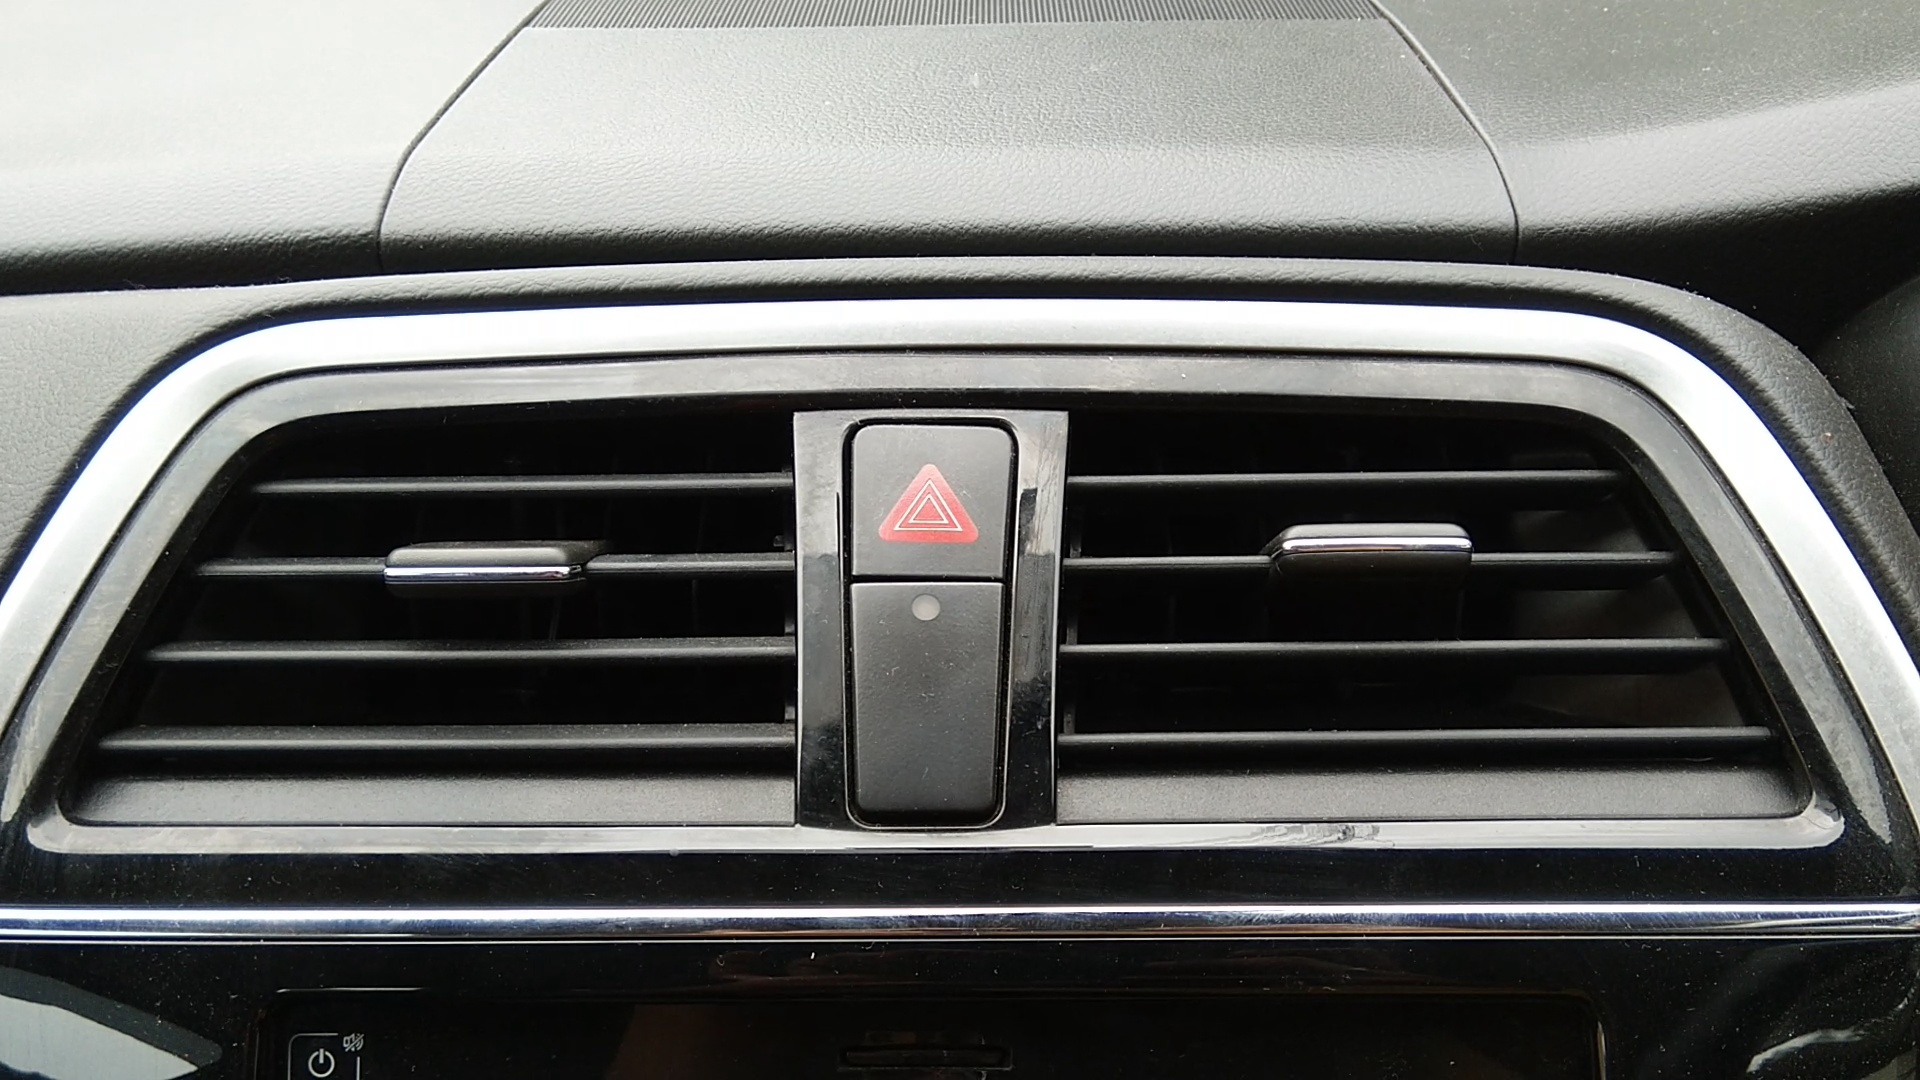parking_button: (824, 400, 1026, 603)
